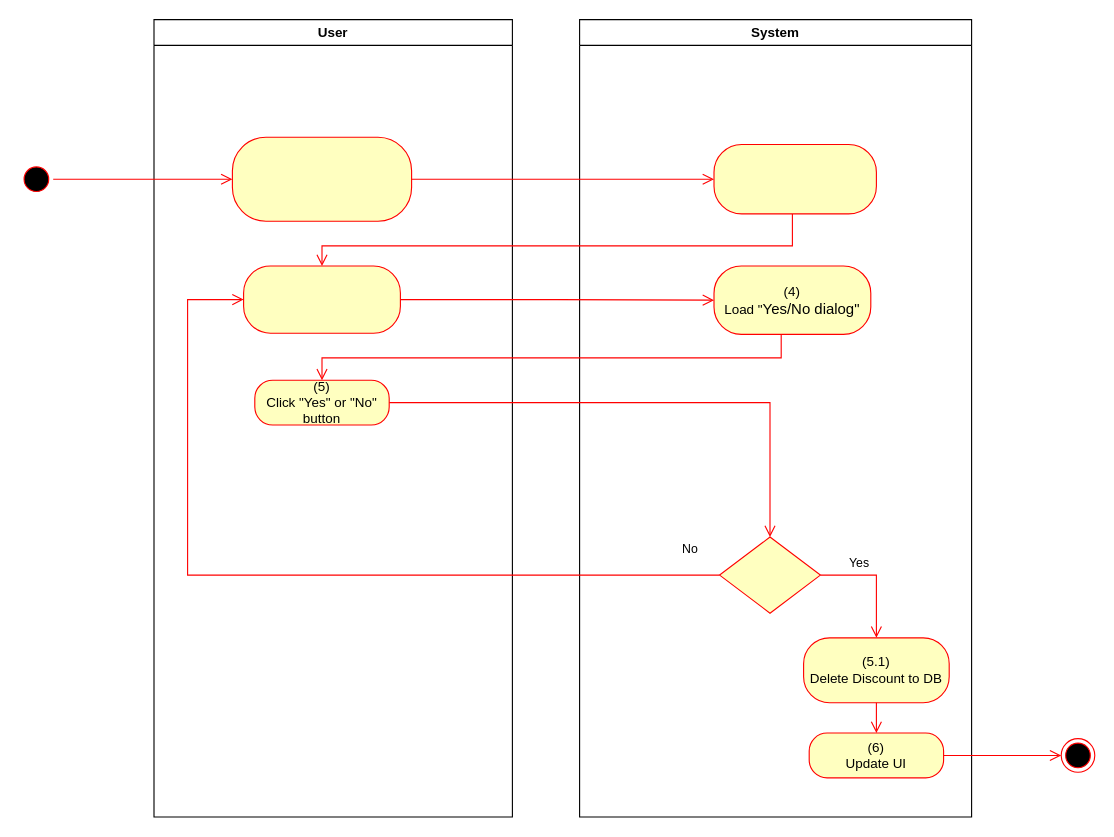
The diagram is 1114 pixels wide and 837 high, and some of its shapes have lost their labels. The shapes that lost their labels are listed below. From the top down, each one's centre as x and y in pixels, then its label:
point 321,178: (1) On "left menu" click " Discount/Voucher Management – CRUD Discount "
point 794,178: (2) Load " List Discount (seller)” Screen
point 321,299: (3) Click button "Xóa" trên 1 item khuyến mãi bất kỳ
